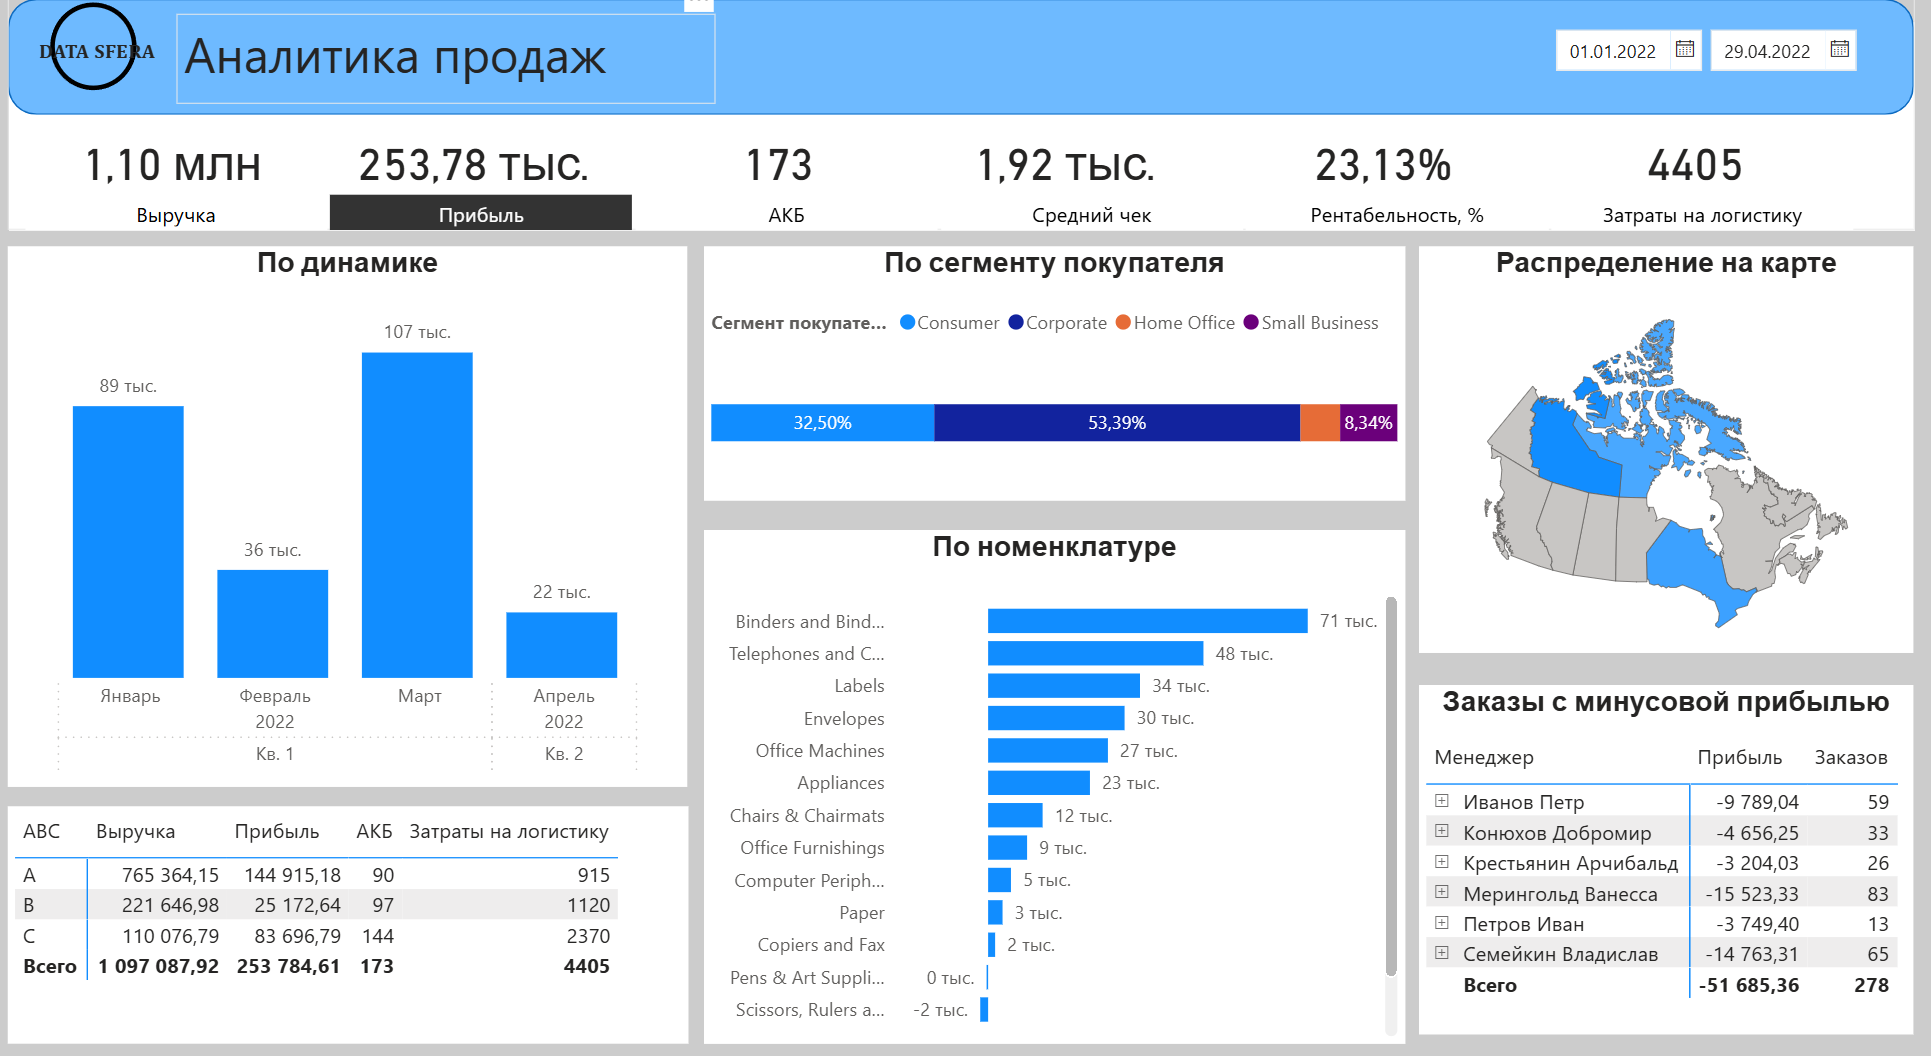

Layout of this report page (visuals, bound fields, positions):
{"tool":"powerbi","page":{"name":"Страница 1","canvas":[1280,720],"ordinal":0},"visuals":[{"type":"group","id":"g1","title":"Группа 1","box":[15.8,22.2,1252.6,151.7],"z":0},{"type":"shape","box":[16.6,37.5,1251.8,136.4],"z":0,"group":"g1"},{"type":"shape","box":[15.8,22.2,1252.3,76.4],"z":1000,"group":"g1"},{"type":"slicer","fields":{"Values":["календарь.Date"]},"box":[1019.9,32,220.6,46.1],"z":1000},{"type":"shape","box":[43.4,25,56.7,57.6],"z":2000,"group":"g1"},{"type":"card","fields":{"Values":["Меры.Выручка"]},"box":[33.7,105.9,179.8,47.6],"z":2000},{"type":"textbox","box":[31,41.8,134.7,46.1],"z":3000,"group":"g1"},{"type":"card","fields":{"Values":["Меры.Прибыль"]},"box":[231.6,105.9,179.8,47.6],"z":3000},{"type":"textbox","box":[126.7,32.1,353.5,59.4],"z":4000,"group":"g1"},{"type":"card","fields":{"Values":["Меры.АКБ"]},"box":[431.9,105.9,179.8,47.6],"z":4000},{"type":"card","fields":{"Values":["Меры.Средний чек"]},"box":[620,105.9,179.8,47.6],"z":5000},{"type":"card","fields":{"Values":["Меры.Рентабельность, %"]},"box":[829.4,105.9,179.8,47.6],"z":6000},{"type":"card","fields":{"Values":["Меры.Затраты на логистику"]},"box":[1034.7,105.9,179.8,47.6],"z":7000},{"type":"slicer","fields":{"Values":["Параметр.Параметр"]},"box":[0.8,143.7,1251.5,30.4],"z":8000},{"type":"columnChart","title":"По динамике","fields":{"Category":["календарь.квартал","календарь.год","календарь.месяц"],"Y":["Меры.Прибыль"]},"box":[15.6,184.8,446.7,355.6],"z":9000},{"type":"hundredPercentStackedBarChart","title":"По сегменту покупателя","fields":{"Y":["Меры.Прибыль"],"Series":["СПР_покупатели.Сегмент покупателя"]},"box":[473.1,185.2,460.7,167.4],"z":10000},{"type":"clusteredBarChart","title":"По номенклатуре","fields":{"Y":["Меры.Прибыль"],"Category":["СПР_продукты.Категория продукта","СПР_продукты.Подкатегория продукта","СПР_продукты.Продукт"]},"box":[473.1,371.2,460.7,337.5],"z":11000},{"type":"shapeMap","title":"Распределение на карте","fields":{"Category":["СПР_Менеджеры.Регион"],"Value":["Меры.Прибыль"]},"box":[942.7,184.8,325.2,266.9],"z":11001},{"type":"pivotTable","title":"Заказы с минусовой прибылью","fields":{"Rows":["СПР_Менеджеры.Менеджер","Продажи.Order_ID"],"Values":["Меры.Прибыль","Меры.Заказов"]},"box":[942.7,473,325.2,229.9],"z":11002},{"type":"pivotTable","fields":{"Rows":["СПР_продукты.ABC"],"Values":["Меры.Выручка","Меры.Прибыль","Меры.АКБ","Меры.Затраты на логистику"]},"box":[15.6,552.6,447.5,156],"z":11003}]}

Visuals, with their boxes in screenshot pixels (x1, y1, x2, y2), scaled from the page's 1280x720 canvas onto the 1931x1056 screenshot:
"Группа 1" group: 24,33,1914,255
shape: 25,55,1914,255
shape: 24,33,1913,145
slicer - календарь.Date: 1539,47,1871,115
shape: 65,37,151,121
card - Меры.Выручка: 51,155,322,225
textbox: 47,61,250,129
card - Меры.Прибыль: 349,155,621,225
textbox: 191,47,724,134
card - Меры.АКБ: 652,155,923,225
card - Меры.Средний чек: 935,155,1207,225
card - Меры.Рентабельность, %: 1251,155,1522,225
card - Меры.Затраты на логистику: 1561,155,1832,225
slicer - Параметр.Параметр: 1,211,1889,255
"По динамике" columnChart: 24,271,697,793
"По сегменту покупателя" hundredPercentStackedBarChart: 714,272,1409,517
"По номенклатуре" clusteredBarChart: 714,544,1409,1039
"Распределение на карте" shapeMap: 1422,271,1913,662
"Заказы с минусовой прибылью" pivotTable: 1422,694,1913,1031
pivotTable - СПР_продукты.ABC x Меры.Выручка: 24,810,699,1039
